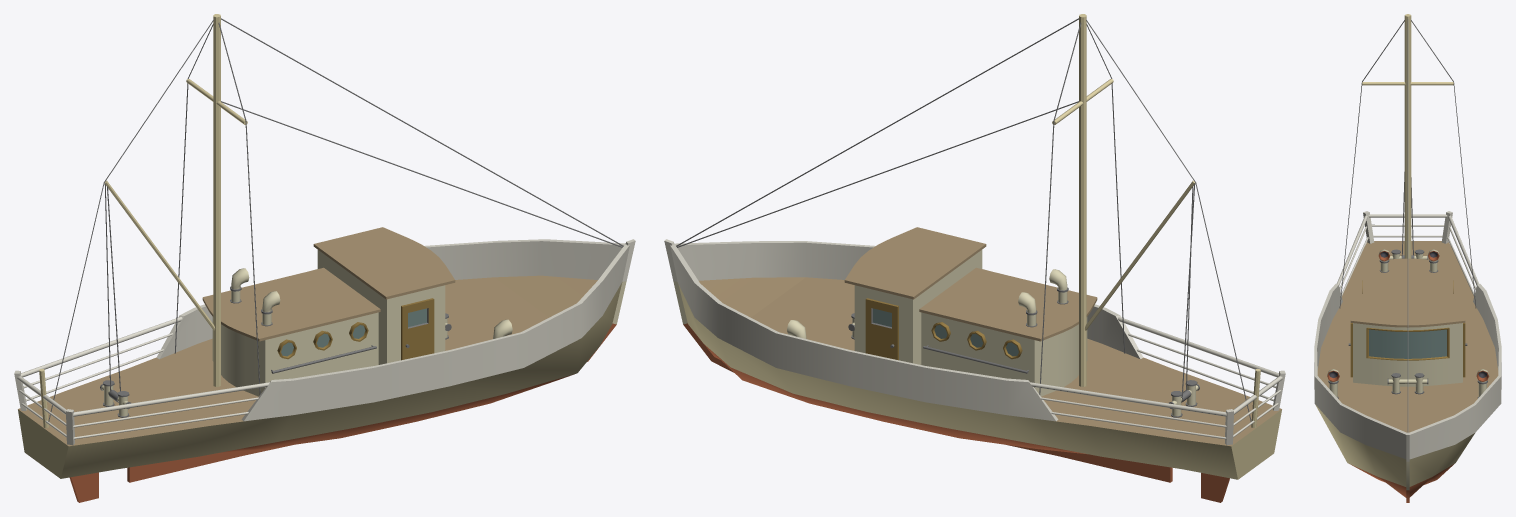
File: boat_draft.glb
The picture shows the model from 3 angles, left to right: view 1: azimuth 30°, elevation 25°; view 2: azimuth 150°, elevation 25°; view 3: azimuth 270°, elevation 25°; orthographic projection. The views are drawn at different scales.
Parts seen in each view (by area): view 1: pCylinder19; view 2: pCylinder19; view 3: pCylinder19.
Part boxes in pixels (<box>): pCylinder19: <box>14,14,635,502</box>; pCylinder19: <box>664,14,1285,502</box>; pCylinder19: <box>1314,14,1501,502</box>.
Size of the model in its own units: 0.1146 by 0.0833 by 0.0395.
